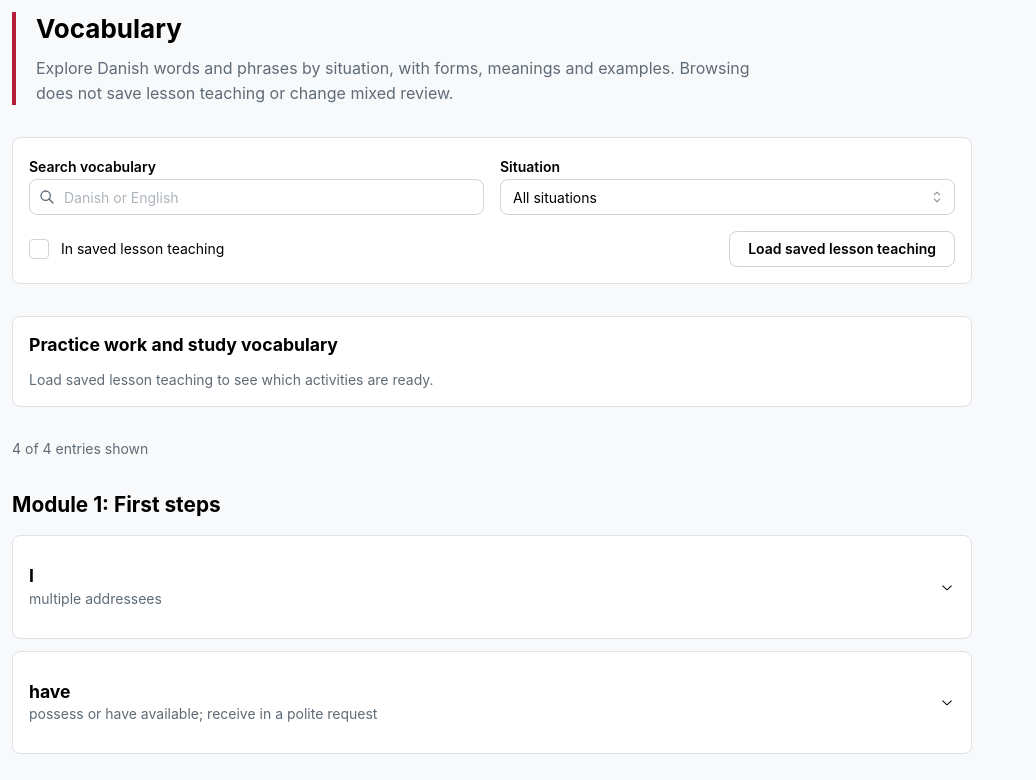
shows authored detail metadata and an empty result state
Step 1. Click the button "I multiple addressees" → point(95, 599), box [13,536,971,638]
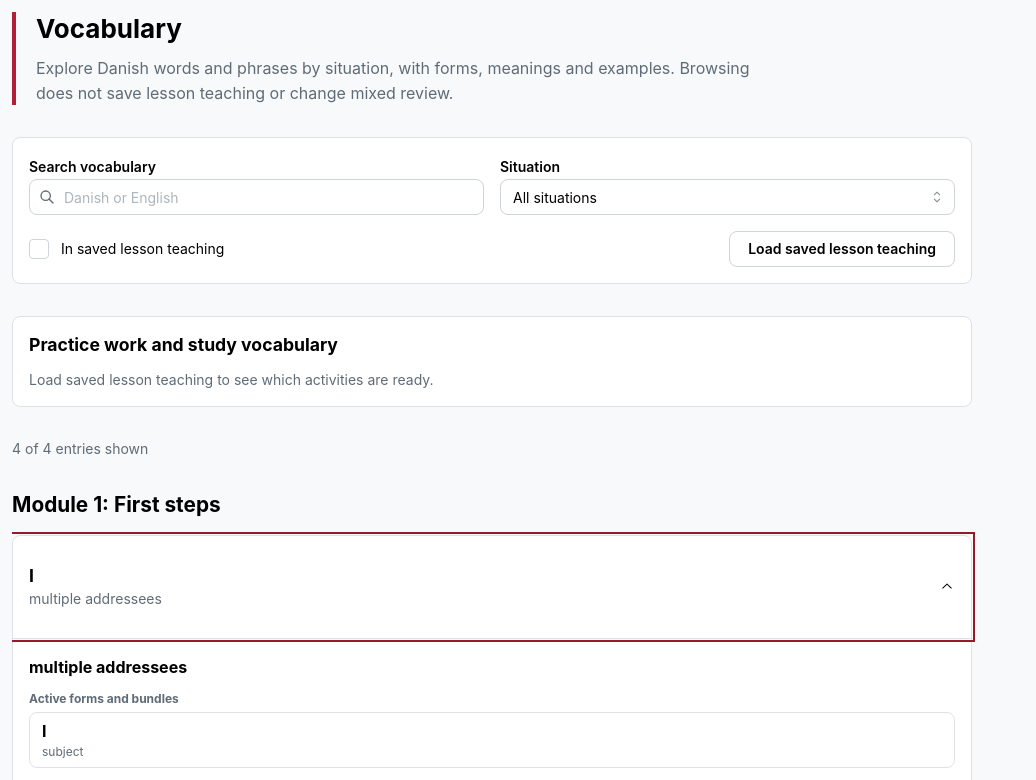
Step 2. Type "not in the library" into the field labelled "Search vocabulary" → point(256, 197), box [29,179,484,215]
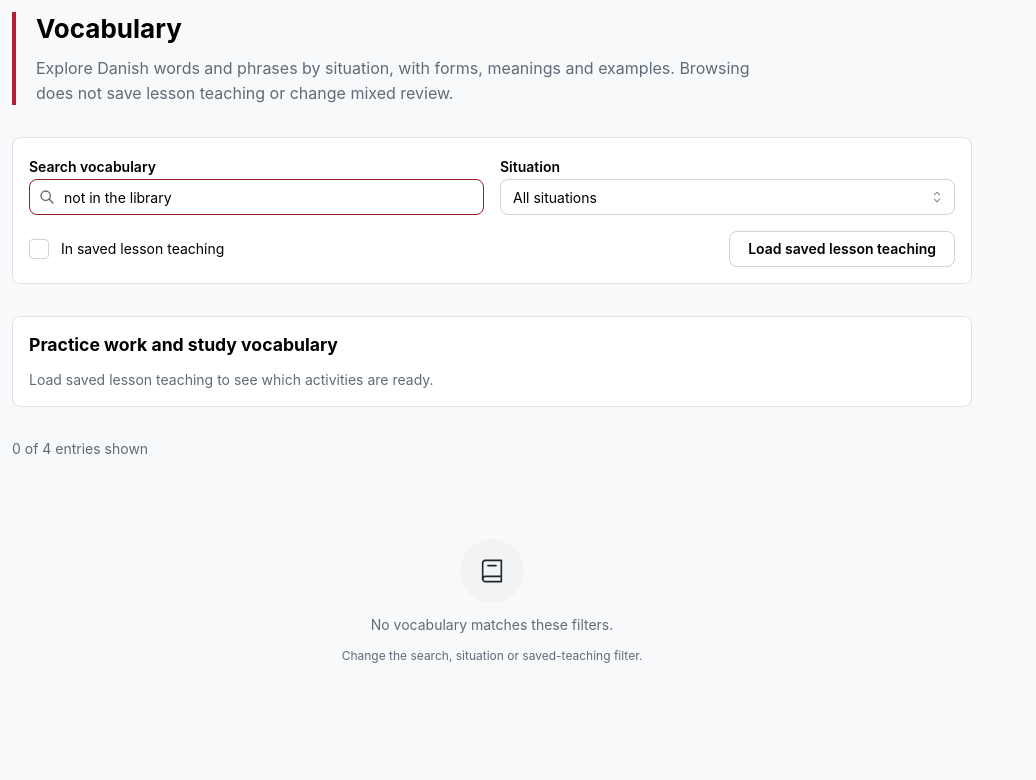
Expected: the text "No vocabulary matches these filters." is shown, [371,615,613,636]
